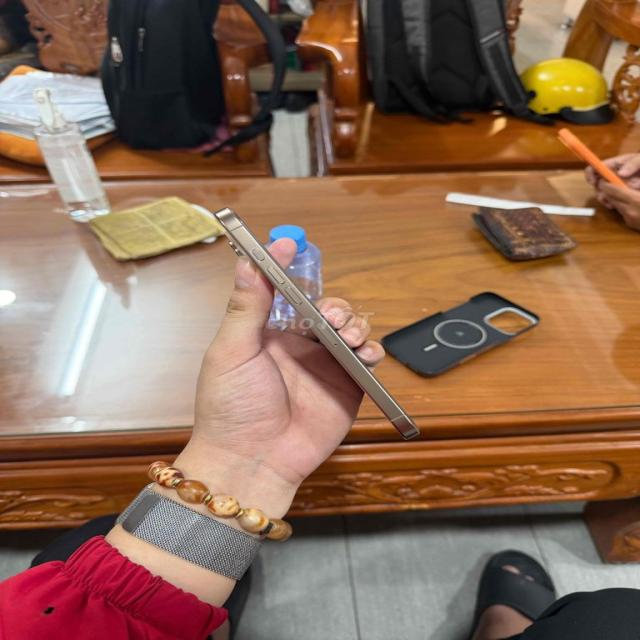gen_16: (214, 208, 419, 439)
